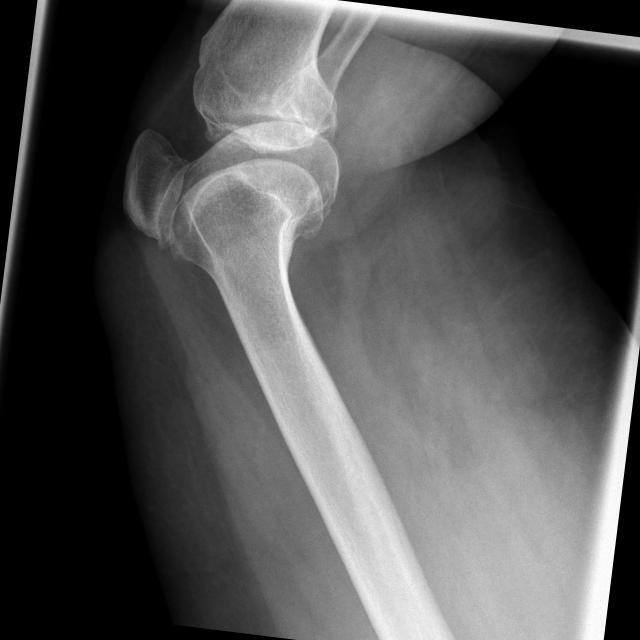Knee: (113, 48, 354, 272)
